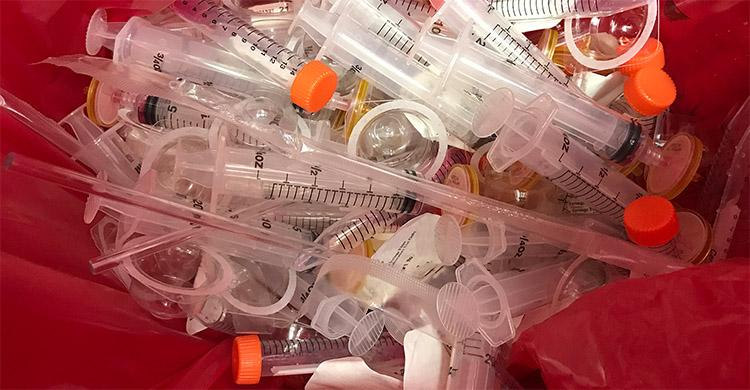Syringe: (276, 137, 683, 274), (319, 2, 640, 161), (487, 95, 645, 223), (171, 0, 336, 111), (174, 145, 420, 212), (86, 9, 278, 94), (433, 0, 575, 89), (87, 83, 216, 129), (232, 335, 350, 383), (359, 0, 430, 66), (315, 210, 402, 252), (490, 0, 646, 21), (446, 333, 495, 389)
